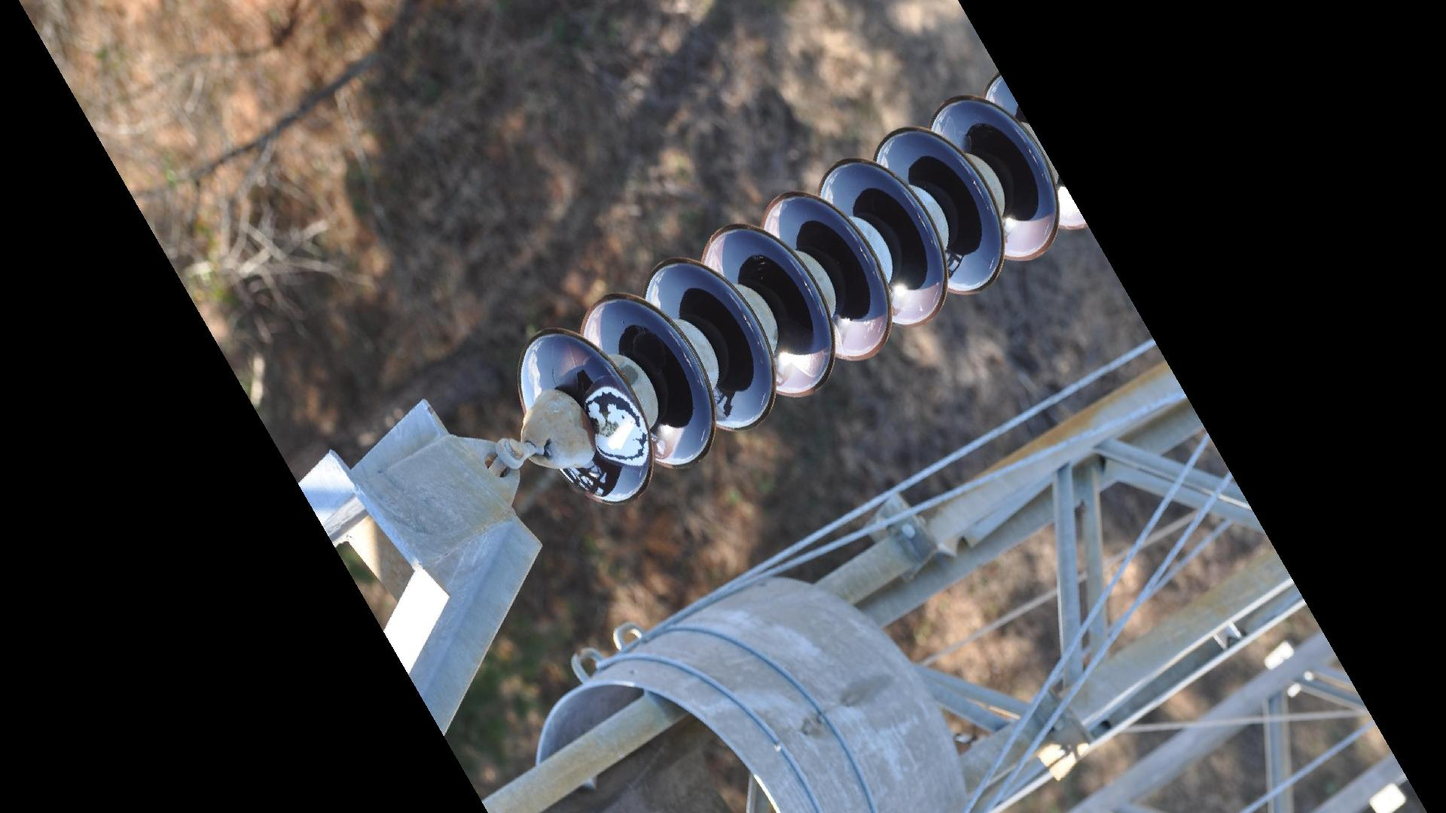insulator: (508, 69, 1090, 513)
insulator_flashover: (582, 384, 649, 467)
